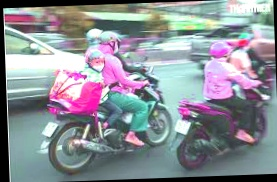Bien-so: (159, 124, 178, 143), (27, 117, 47, 135)
